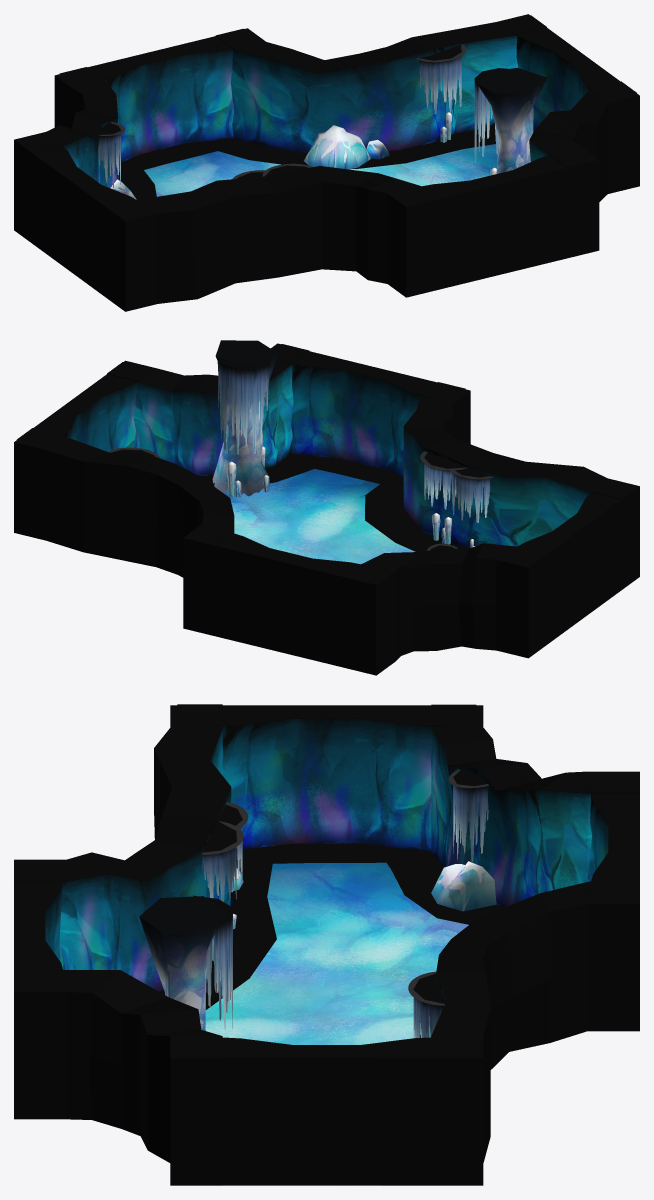
File: Dungeon_072_RoadX_001.fbx
3 renders of one model, top to bottom at view 1: azimuth 30°, elevation 25°; view 2: azimuth 150°, elevation 25°; view 3: azimuth 270°, elevation 25°, orthographic. The views are drawn at different scales.
Parts seen in each view (by area): view 1: Dun_072_RoadX_001_wall, Dun_072_Door_002 (×4), Dun_072_RoadX_001_ground, Dun_072_OB_Icicle, Dun_072_RoadX_001_shadow, Dun_072_OB_Pillar, Dun_072_OB_Stone02, Dun_072_Door_002_shadow; view 2: Dun_072_RoadX_001_wall, Dun_072_Door_002 (×4), Dun_072_RoadX_001_ground, Dun_072_OB_Icicle, Dun_072_OB_Pillar, Dun_072_RoadX_001_shadow, Dun_072_OB_Ice_crystals01, Dun_072_Door_002_shadow; view 3: Dun_072_RoadX_001_wall, Dun_072_Door_002 (×4), Dun_072_RoadX_001_ground, Dun_072_OB_Icicle, Dun_072_RoadX_001_shadow, Dun_072_OB_Pillar, Dun_072_OB_Stone02, Dun_072_Door_002_shadow.
Boxes of the visible parts, left/top/right/bottom form: Dun_072_RoadX_001_wall: left=14, top=14, right=639, bottom=311; Dun_072_Door_002 (×4): left=17, top=15, right=636, bottom=297; Dun_072_RoadX_001_ground: left=144, top=144, right=497, bottom=196; Dun_072_OB_Icicle: left=98, top=44, right=507, bottom=187; Dun_072_RoadX_001_shadow: left=117, top=127, right=495, bottom=199; Dun_072_OB_Pillar: left=477, top=68, right=547, bottom=174; Dun_072_OB_Stone02: left=110, top=125, right=370, bottom=199; Dun_072_Door_002_shadow: left=132, top=142, right=217, bottom=169; Dun_072_RoadX_001_wall: left=14, top=343, right=639, bottom=675; Dun_072_Door_002 (×4): left=17, top=344, right=636, bottom=667; Dun_072_RoadX_001_ground: left=224, top=469, right=415, bottom=564; Dun_072_OB_Icicle: left=108, top=358, right=493, bottom=550; Dun_072_OB_Pillar: left=212, top=340, right=277, bottom=496; Dun_072_RoadX_001_shadow: left=199, top=453, right=465, bottom=551; Dun_072_OB_Ice_crystals01: left=226, top=446, right=475, bottom=547; Dun_072_Door_002_shadow: left=315, top=458, right=393, bottom=483; Dun_072_RoadX_001_wall: left=14, top=705, right=639, bottom=1185; Dun_072_Door_002 (×4): left=14, top=704, right=639, bottom=1185; Dun_072_RoadX_001_ground: left=205, top=862, right=468, bottom=1185; Dun_072_OB_Icicle: left=193, top=769, right=488, bottom=1038; Dun_072_RoadX_001_shadow: left=159, top=845, right=505, bottom=1009; Dun_072_OB_Pillar: left=139, top=896, right=224, bottom=1030; Dun_072_OB_Stone02: left=420, top=861, right=496, bottom=1037; Dun_072_Door_002_shadow: left=273, top=843, right=385, bottom=863.
Size of what is drawn, in the model's own units: 12 by 2.96 by 9.
